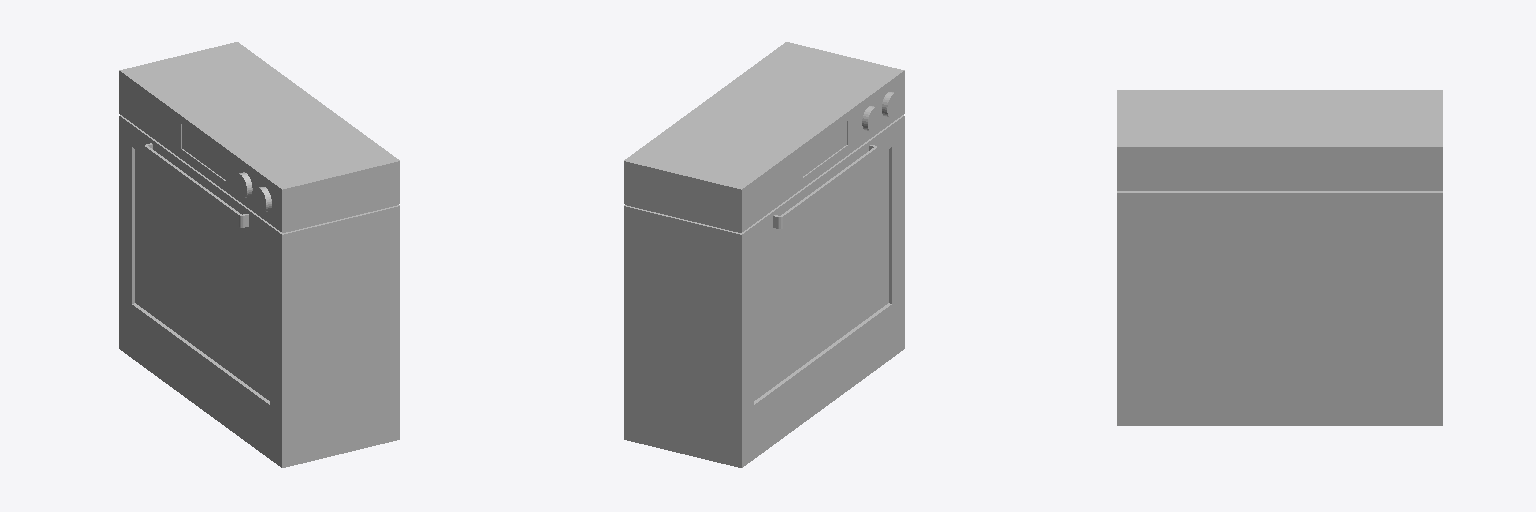
Rendered from owen.obj.
The picture shows the model from 3 angles: view 1: azimuth 30°, elevation 25°; view 2: azimuth 150°, elevation 25°; view 3: azimuth 270°, elevation 25°; orthographic projection.
Parts seen in each view (by area): view 1: Owen; view 2: Owen; view 3: Owen.
Part boxes in pixels (bbox=[...]): Owen: bbox=[119, 42, 399, 467]; Owen: bbox=[624, 42, 904, 467]; Owen: bbox=[1117, 90, 1442, 425].
Bounding box in the file's own units: 0.4646 × 0.9825 × 1.04.